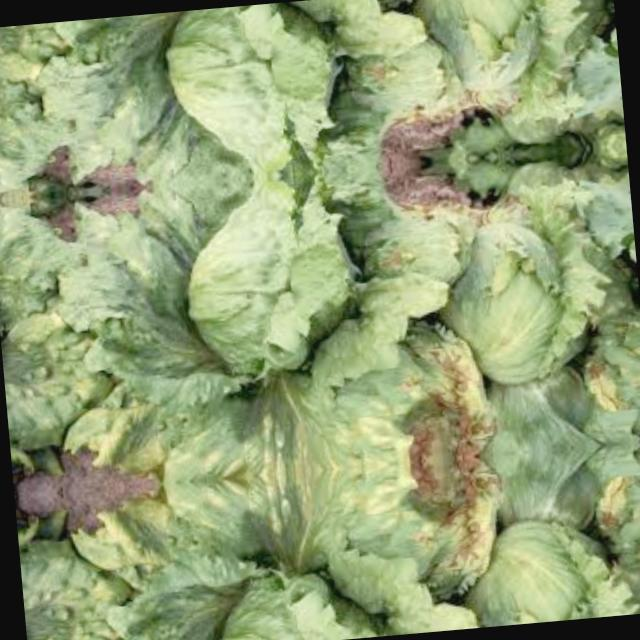Downy_mildew: (390, 453, 520, 607), (378, 310, 507, 464), (565, 326, 640, 426), (577, 461, 640, 561), (349, 0, 467, 13)
